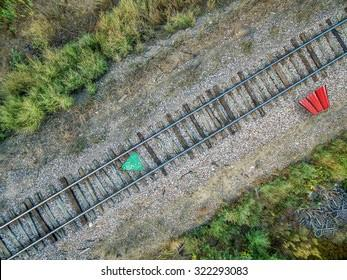Color_steel: (299, 86, 337, 121)
Dust_screen: (122, 148, 145, 174)
